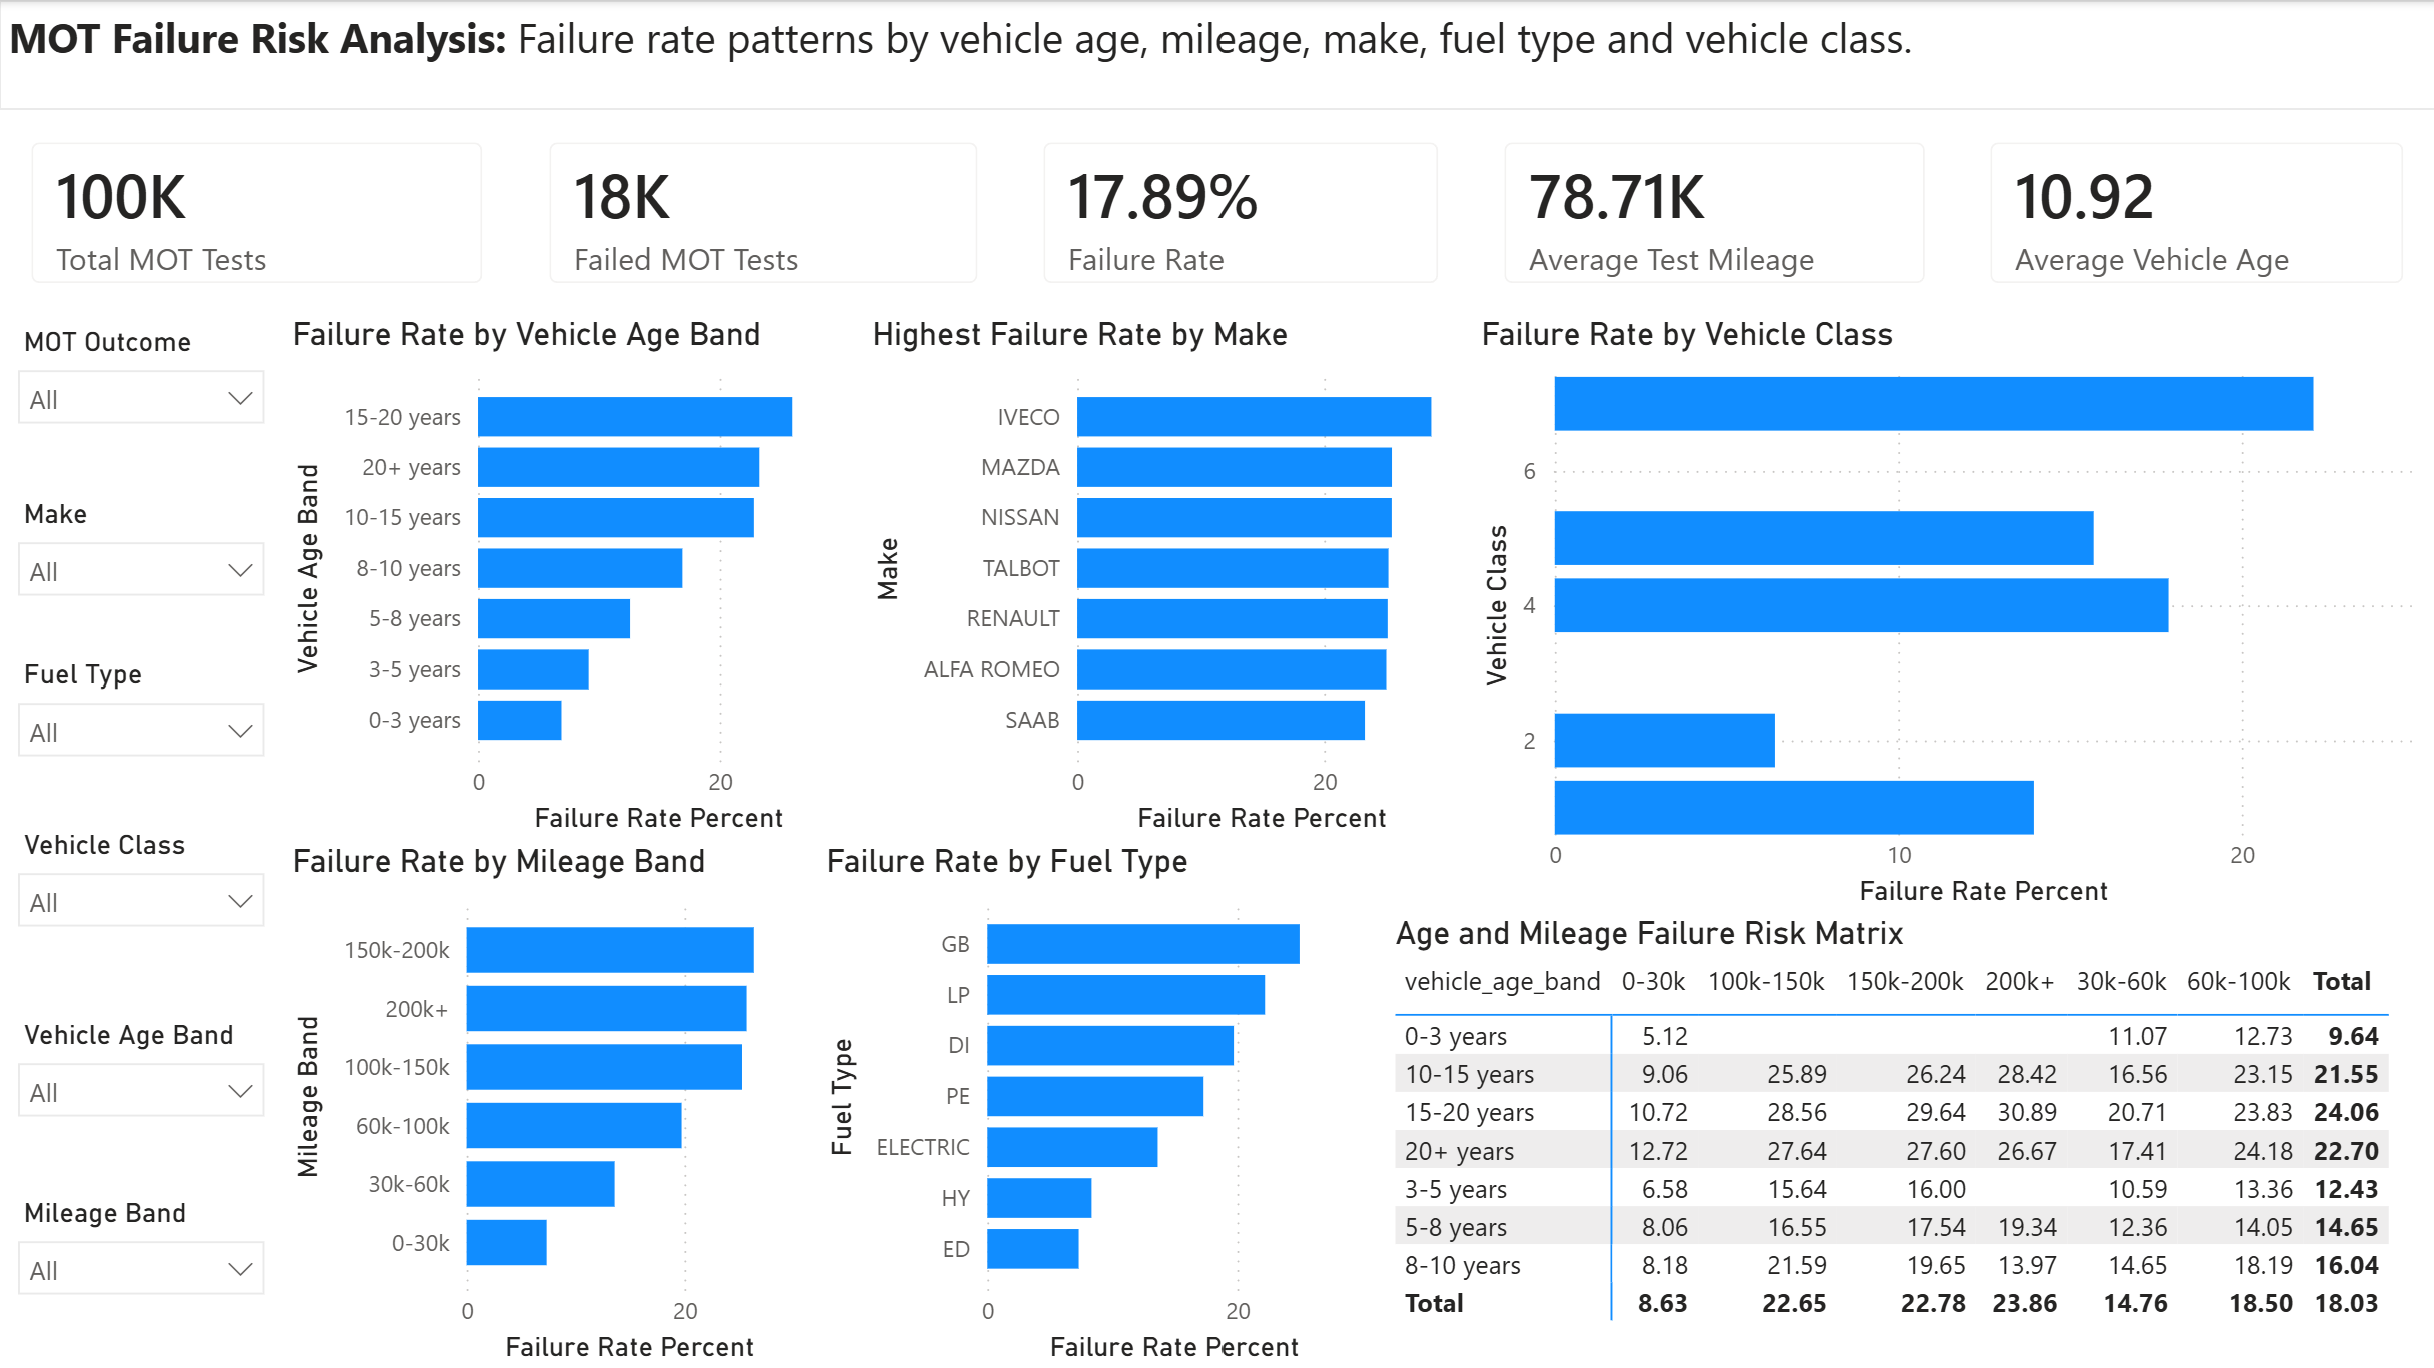

Layout of this report page (visuals, bound fields, positions):
{"tool":"powerbi","page":{"name":"Failure Risk Analysis","canvas":[1280,720],"ordinal":1},"visuals":[{"type":"textbox","box":[0,0,1280,57.7],"z":0},{"type":"cardVisual","fields":{"Data":["mot_record_level_dashboard.Total MOT Tests"]},"box":[0,57.7,271.9,108.5],"z":1000},{"type":"cardVisual","fields":{"Data":["mot_record_level_dashboard.Failed MOT Tests"]},"box":[271.9,57.7,259.6,108.5],"z":2000},{"type":"cardVisual","fields":{"Data":["mot_record_level_dashboard.Failure Rate"]},"box":[531.5,57.7,241.7,108.5],"z":3000},{"type":"cardVisual","fields":{"Data":["mot_record_level_dashboard.Average Test Mileage"]},"box":[773.2,57.7,255.5,108.5],"z":4000},{"type":"cardVisual","fields":{"Data":["mot_record_level_dashboard.Average Vehicle Age"]},"box":[1028.7,57.7,251.3,108.5],"z":5000},{"type":"slicer","fields":{"Values":["mot_record_level_dashboard.mot_outcome"]},"box":[0,166.2,149.7,92],"z":6000},{"type":"slicer","fields":{"Values":["mot_record_level_dashboard.make"]},"box":[0,256.8,149.7,85.2],"z":7000},{"type":"slicer","fields":{"Values":["mot_record_level_dashboard.fuel_type"]},"box":[0,340.6,149.7,90.6],"z":8000},{"type":"slicer","fields":{"Values":["mot_record_level_dashboard.vehicle_class"]},"box":[0,429.9,149.7,101.6],"z":9000},{"type":"slicer","fields":{"Values":["mot_record_level_dashboard.vehicle_age_band"]},"box":[0,530.1,149.7,94.8],"z":10000},{"type":"slicer","fields":{"Values":["mot_record_level_dashboard.mileage_band"]},"box":[0,623.5,149.7,97.5],"z":11000},{"type":"barChart","title":"Failure Rate by Vehicle Age Band","fields":{"Category":["age_band_performance.vehicle_age_band"],"Y":["Avg(age_band_performance.failure_rate_percent)"]},"box":[149.7,166.2,304.9,276.1],"z":12000},{"type":"barChart","title":"Failure Rate by Mileage Band","fields":{"Category":["mileage_band_performance.mileage_band"],"Y":["Avg(mileage_band_performance.failure_rate_percent)"]},"box":[149.7,442.2,280.2,277.4],"z":13000},{"type":"barChart","title":"Highest Failure Rate by Make","fields":{"Category":["make_performance.make"],"Y":["Avg(make_performance.failure_rate_percent)"]},"box":[454.6,166.2,318.6,276.1],"z":14000},{"type":"barChart","title":"Failure Rate by Fuel Type","fields":{"Category":["fuel_type_performance.fuel_type"],"Y":["Avg(fuel_type_performance.failure_rate_percent)"]},"box":[429.9,442.2,298,277.4],"z":15000},{"type":"barChart","title":"Failure Rate by Vehicle Class","fields":{"Category":["vehicle_class_performance.vehicle_class"],"Y":["Avg(vehicle_class_performance.failure_rate_percent)"]},"box":[773.2,166.2,506.8,314.5],"z":16000},{"type":"pivotTable","title":"Age and Mileage Failure Risk Matrix","fields":{"Rows":["age_mileage_risk_matrix.vehicle_age_band"],"Columns":["age_mileage_risk_matrix.mileage_band"],"Values":["Avg(age_mileage_risk_matrix.failure_rate_percent)"]},"box":[727.9,480.7,553.5,239],"z":17000}]}

Visuals, with their boxes in screenshot pixels (x1, y1, x2, y2), scaled from the page's 1280x720 canvas onto the 2434x1368 screenshot:
textbox: 0,0,2433,110
cardVisual - mot_record_level_dashboard.Total MOT Tests: 0,110,517,316
cardVisual - mot_record_level_dashboard.Failed MOT Tests: 517,110,1011,316
cardVisual - mot_record_level_dashboard.Failure Rate: 1011,110,1470,316
cardVisual - mot_record_level_dashboard.Average Test Mileage: 1470,110,1956,316
cardVisual - mot_record_level_dashboard.Average Vehicle Age: 1956,110,2433,316
slicer - mot_record_level_dashboard.mot_outcome: 0,316,285,491
slicer - mot_record_level_dashboard.make: 0,488,285,650
slicer - mot_record_level_dashboard.fuel_type: 0,647,285,819
slicer - mot_record_level_dashboard.vehicle_class: 0,817,285,1010
slicer - mot_record_level_dashboard.vehicle_age_band: 0,1007,285,1187
slicer - mot_record_level_dashboard.mileage_band: 0,1185,285,1367
"Failure Rate by Vehicle Age Band" barChart: 285,316,864,840
"Failure Rate by Mileage Band" barChart: 285,840,817,1367
"Highest Failure Rate by Make" barChart: 864,316,1470,840
"Failure Rate by Fuel Type" barChart: 817,840,1384,1367
"Failure Rate by Vehicle Class" barChart: 1470,316,2433,913
"Age and Mileage Failure Risk Matrix" pivotTable: 1384,913,2433,1367
